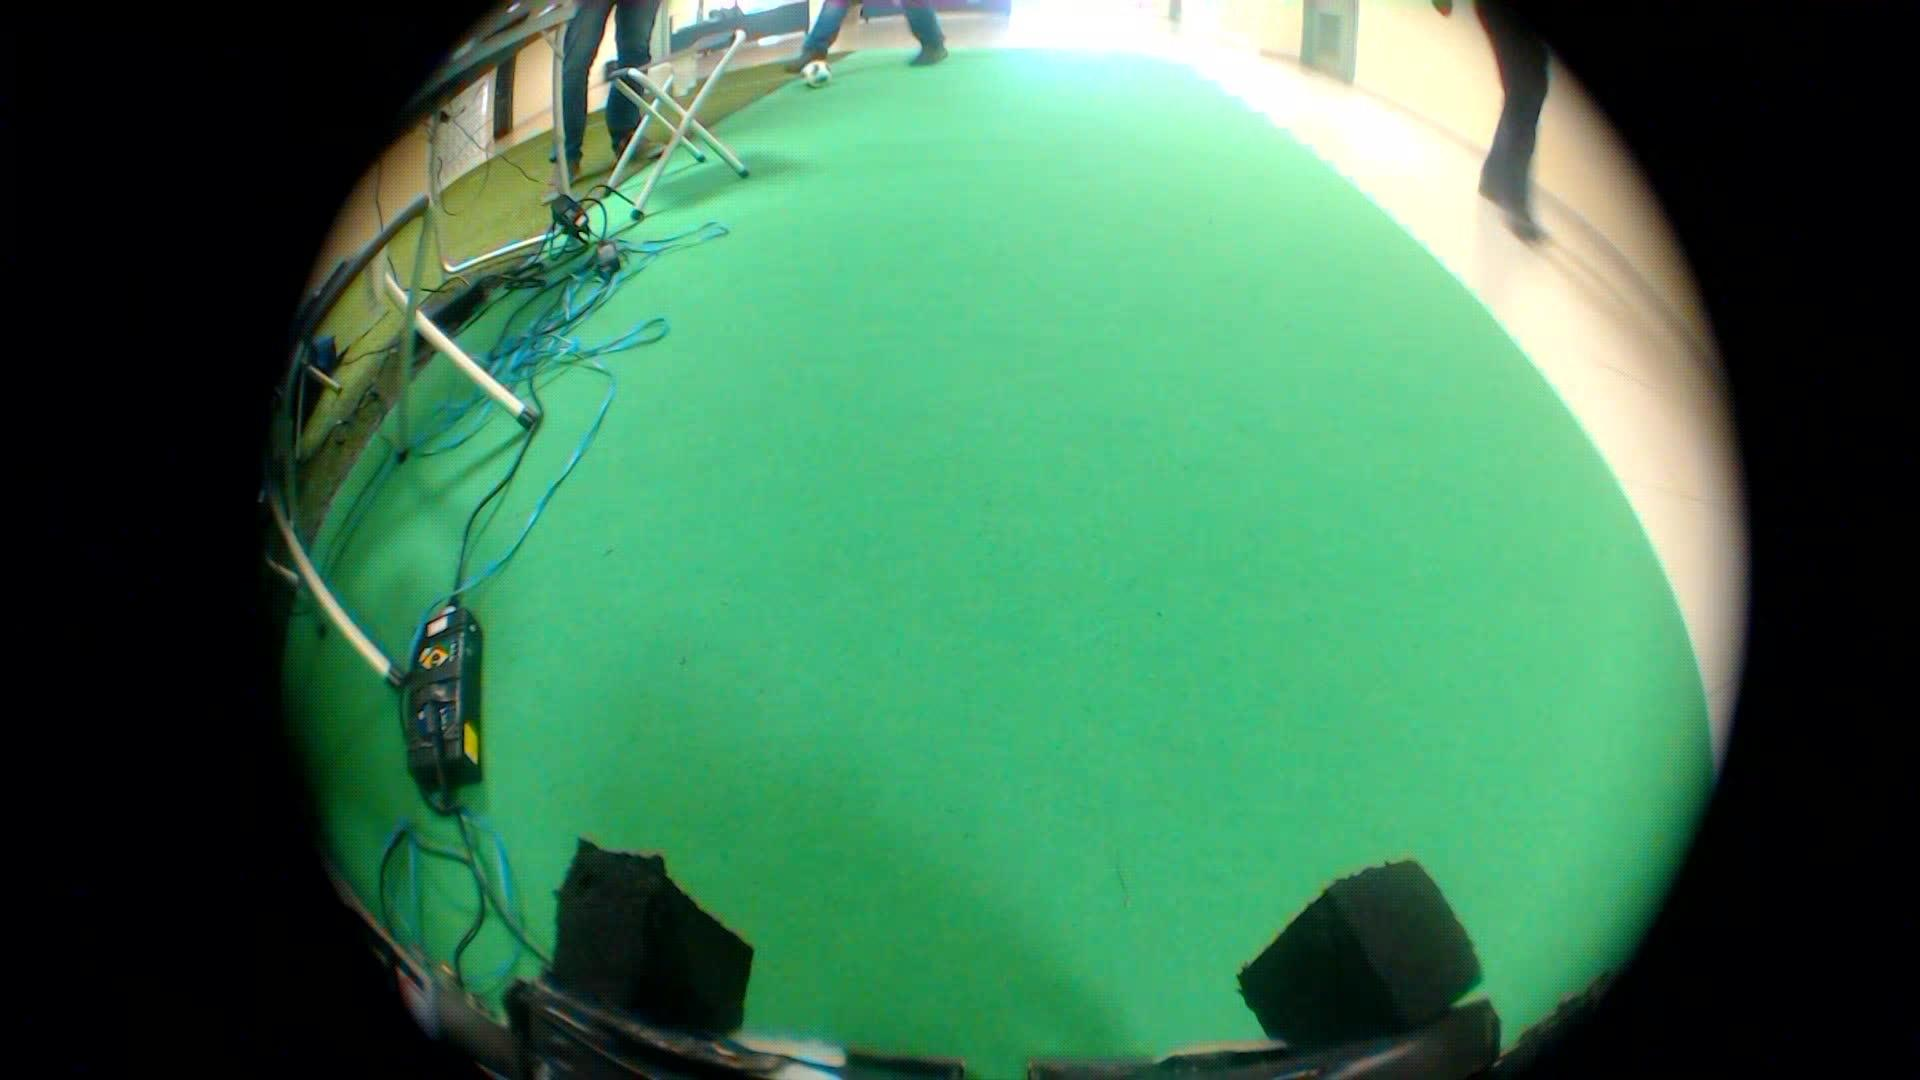ball: (802, 50, 841, 98)
